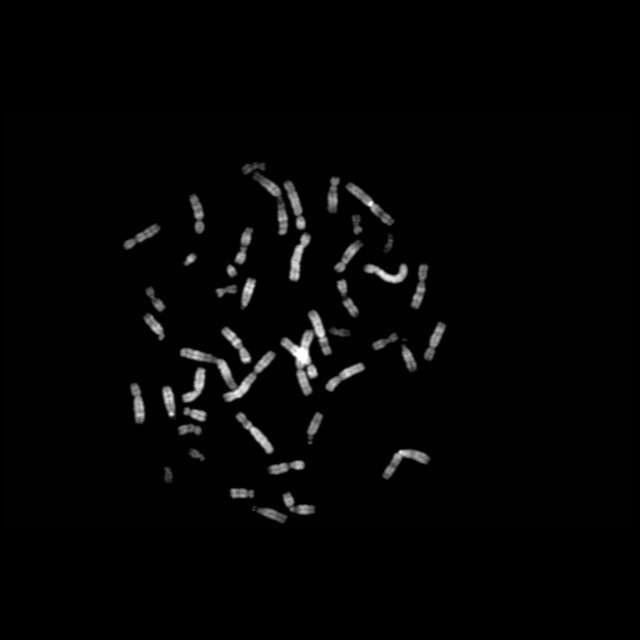chromosome: (223, 351, 274, 402), (180, 348, 236, 390), (253, 173, 287, 234), (346, 182, 394, 225), (235, 412, 272, 453), (382, 448, 430, 479), (280, 338, 316, 378), (296, 330, 314, 396), (326, 363, 364, 392), (284, 180, 306, 230), (220, 326, 250, 362), (308, 310, 330, 356), (290, 234, 310, 282), (334, 241, 362, 273), (124, 224, 160, 248), (424, 322, 446, 360), (182, 368, 205, 402), (338, 279, 358, 317), (365, 264, 407, 282), (411, 264, 427, 310), (284, 492, 314, 514), (131, 383, 145, 423), (190, 194, 204, 233), (144, 313, 164, 339), (268, 460, 304, 474), (146, 288, 166, 312), (308, 412, 322, 444), (258, 507, 286, 523), (242, 279, 256, 309), (402, 344, 416, 372), (374, 333, 398, 349), (328, 177, 338, 213), (162, 386, 174, 416), (184, 407, 206, 421), (242, 162, 264, 174), (179, 424, 201, 436), (230, 488, 253, 498), (217, 285, 236, 297), (234, 246, 246, 264), (352, 215, 362, 235), (330, 328, 350, 338), (188, 448, 204, 460), (242, 227, 252, 245), (383, 235, 392, 252), (183, 254, 195, 266), (164, 466, 172, 482), (228, 264, 236, 278)
